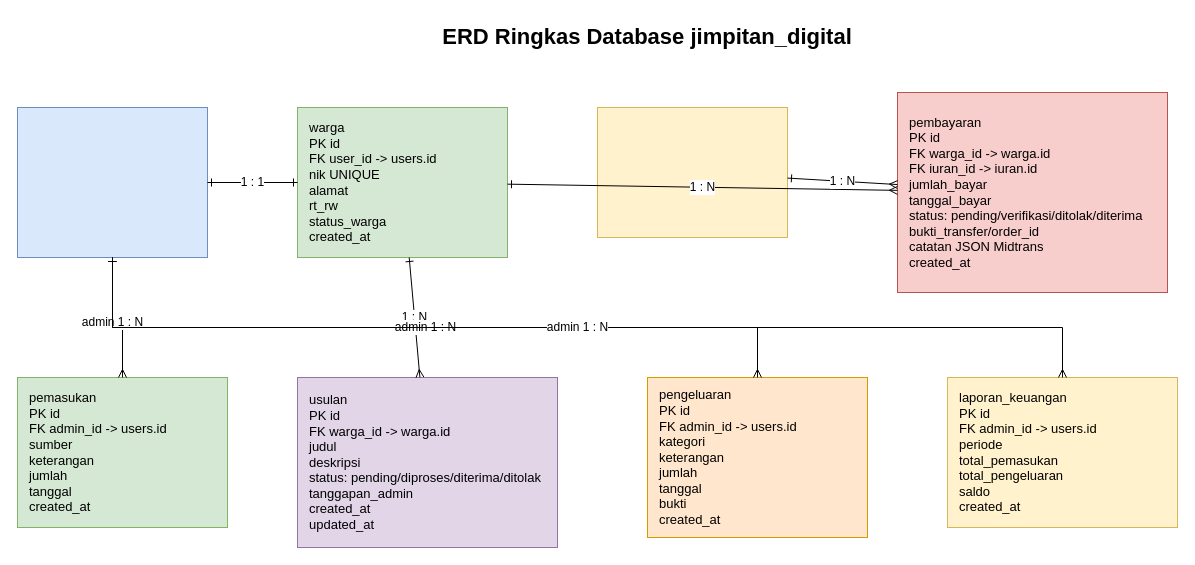
This 1195x565 diagram has some shape labels left out. Each missing label, with the centre of its shape:
iuran PK id nama_iuran jumlah keterangan created_at admin_id opsional: pixel 692 172
users PK id nama email UNIQUE password no_hp role: admin/warga created_at: pixel 112 182
